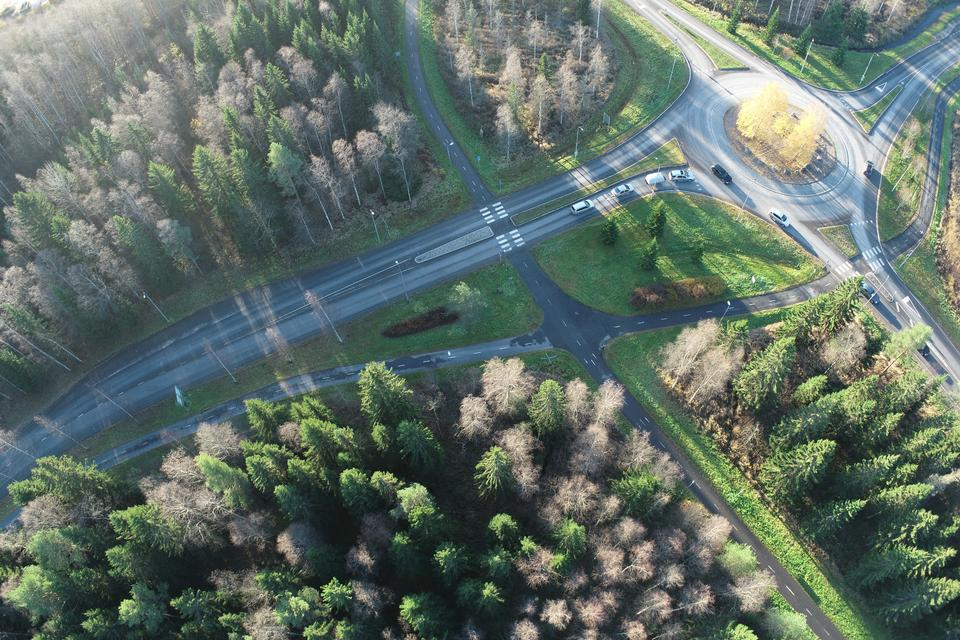intersection: (447, 178, 576, 281), (805, 237, 915, 299)
roundabout: (622, 43, 893, 231)
